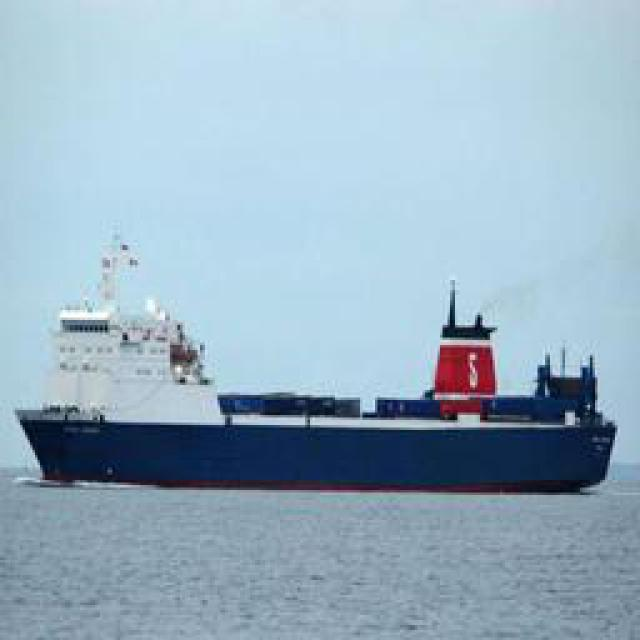Ship: (15, 227, 618, 495)
